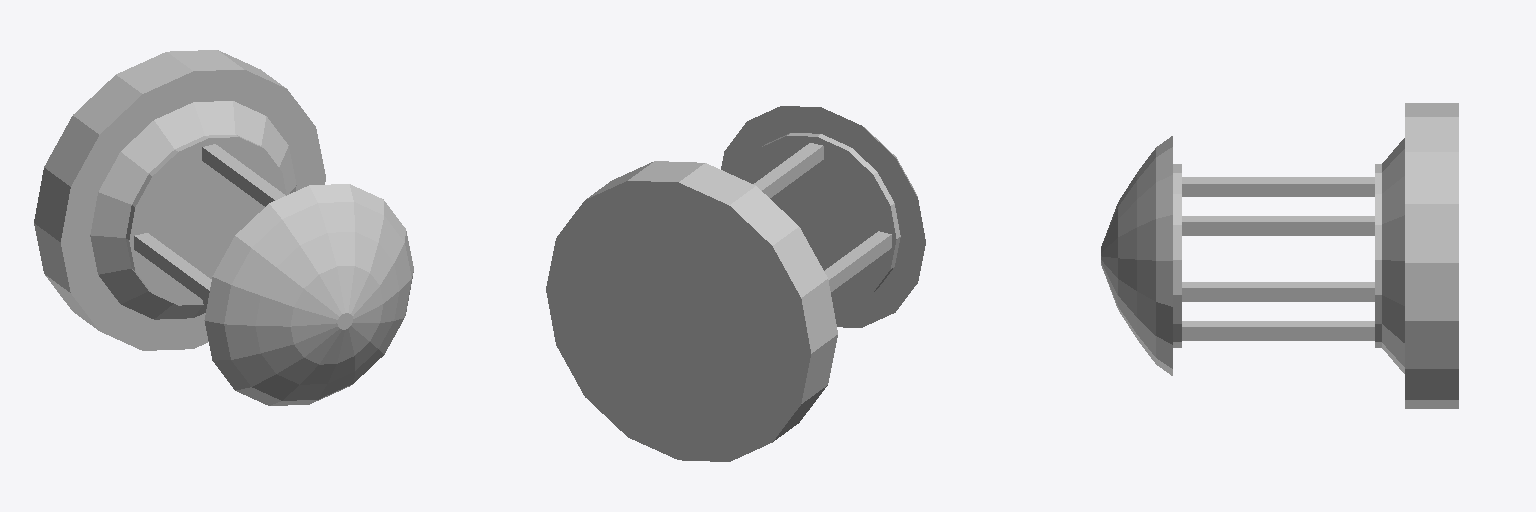
File: TARDIS-topper.obj
3 renders of one model, left to right at view 1: azimuth 30°, elevation 25°; view 2: azimuth 150°, elevation 25°; view 3: azimuth 270°, elevation 25°, orthographic.
Parts seen in each view (by area): view 1: Cylinder.001; view 2: Cylinder.001; view 3: Cylinder.001.
Part boxes in pixels (x1,y1,x2,y2): Cylinder.001: (34, 50, 413, 405); Cylinder.001: (546, 106, 925, 461); Cylinder.001: (1101, 103, 1458, 408).
Bounding box in the file's own units: 1.36 × 1.36 × 1.59.